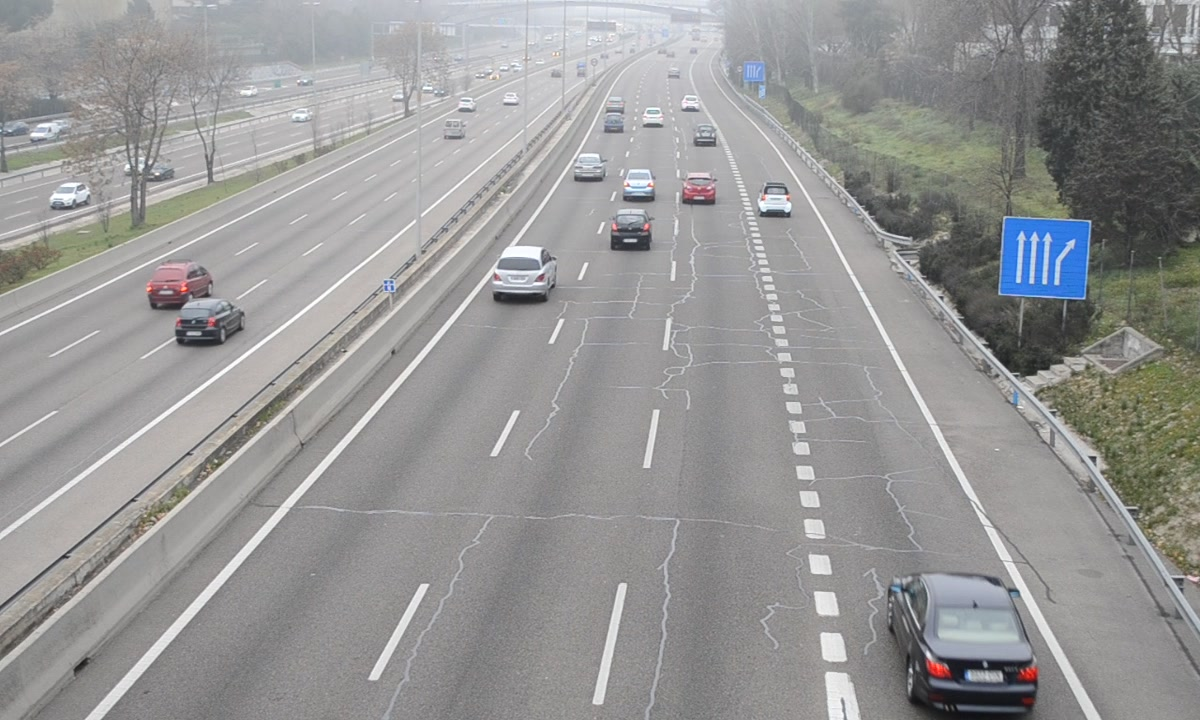car: (890, 574, 1038, 715), (491, 244, 558, 298), (610, 208, 654, 251), (759, 181, 793, 218), (683, 172, 718, 206), (623, 168, 657, 202), (573, 153, 607, 184), (692, 123, 719, 148), (602, 114, 626, 134)
